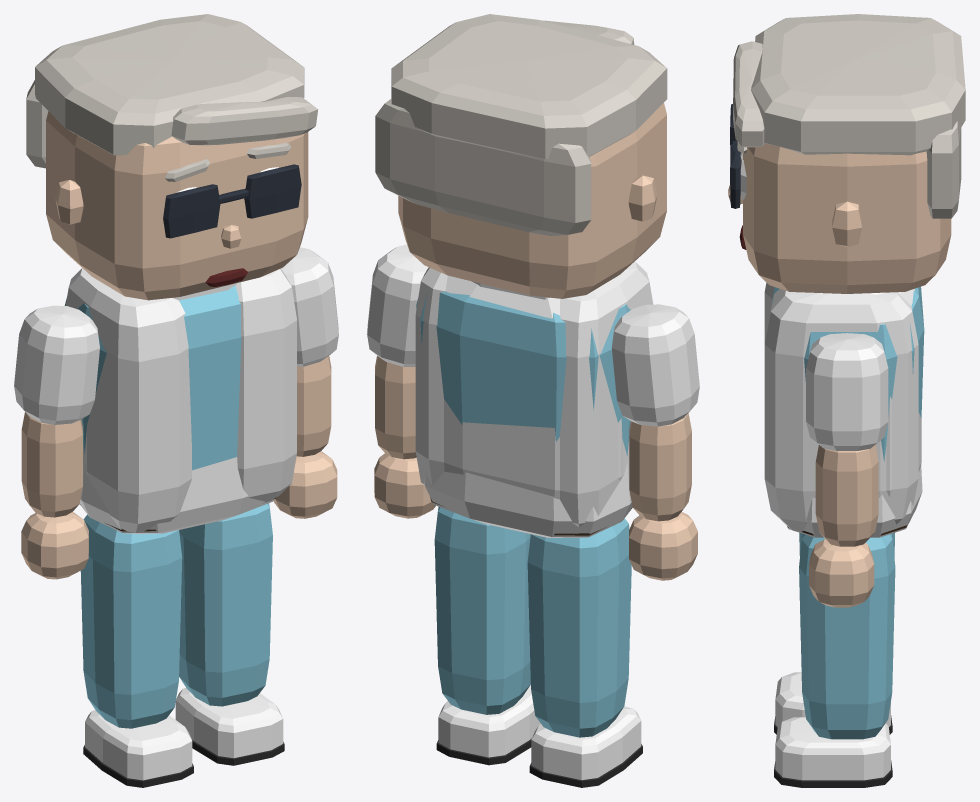
File: hero-i.glb
3 views of the same model, side by side, from view 1: azimuth 30°, elevation 25°; view 2: azimuth 150°, elevation 25°; view 3: azimuth 270°, elevation 25° (orthographic). The views are drawn at different scales.
Parts seen in each view (by area): view 1: head, torso, leg-right, leg-left, arm-right, arm-left; view 2: head, torso, leg-right, leg-left, arm-right, arm-left; view 3: head, torso, leg-left, arm-left, leg-right.
Part boxes in pixels (box(x1,y1,x2,y2)): head: box(26, 14, 317, 300); torso: box(64, 268, 296, 533); leg-right: box(80, 514, 193, 787); leg-left: box(175, 503, 284, 765); arm-right: box(14, 305, 99, 579); arm-left: box(274, 247, 338, 518); head: box(375, 14, 667, 298); torso: box(415, 261, 653, 537); leg-right: box(527, 518, 642, 787); leg-left: box(434, 507, 540, 765); arm-right: box(611, 304, 699, 580); arm-left: box(367, 244, 435, 518); head: box(728, 14, 965, 293); torso: box(764, 282, 924, 537); leg-left: box(774, 534, 895, 787); arm-left: box(806, 333, 888, 607); leg-right: box(774, 532, 894, 734).
Bounding box in the file's own units: 1.29 × 2.73 × 0.8497.
